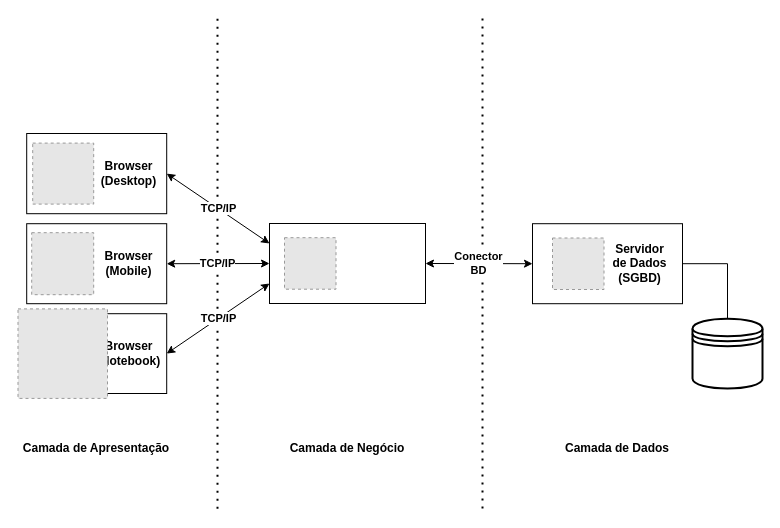
Some shapes in this 780 by 528 pixel diagram are drawn without their labels. Grey dashed boxes stand in for pictures. The box of each missing label's shape, as (x1, y1, x2, y2) in pixels:
Banco de Dados: (691, 317, 763, 389)
Servidor Web (Aplicação): (268, 222, 426, 304)
